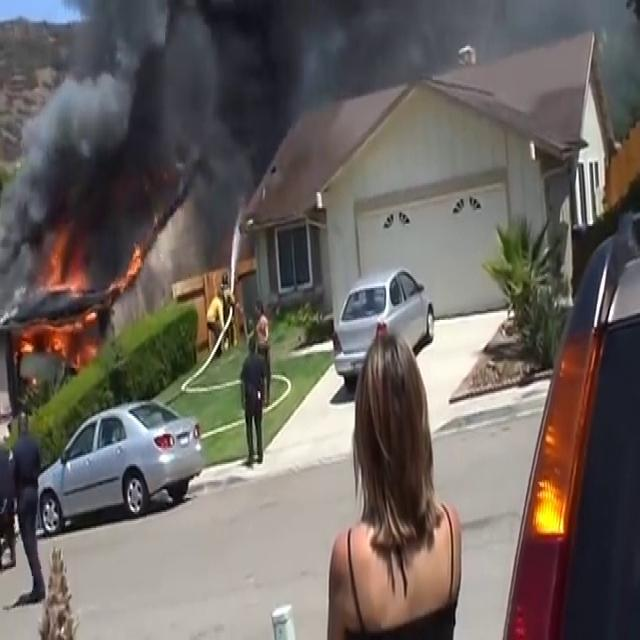Fire: (22, 228, 94, 374), (114, 238, 144, 292)
Smoke: (4, 1, 280, 282), (297, 0, 607, 138)
